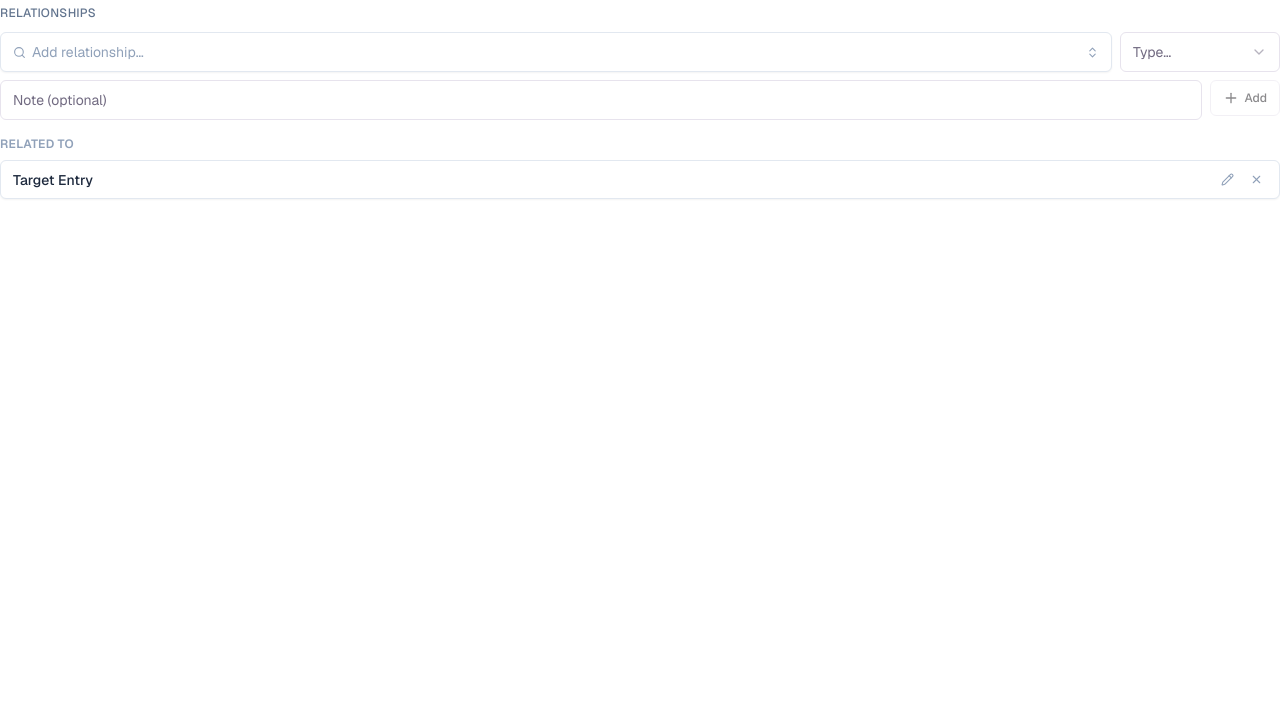
Test: RelationshipsPanel — confirmation dialog on remove › shows confirmation dialog when remove button is clicked
The image size is (1280, 720).
Note: Click the remove button on the card
Click the button with test id "relationship-card-remove-button" at (1256, 180), box top-left (1246, 169), bottom-right (1267, 190)
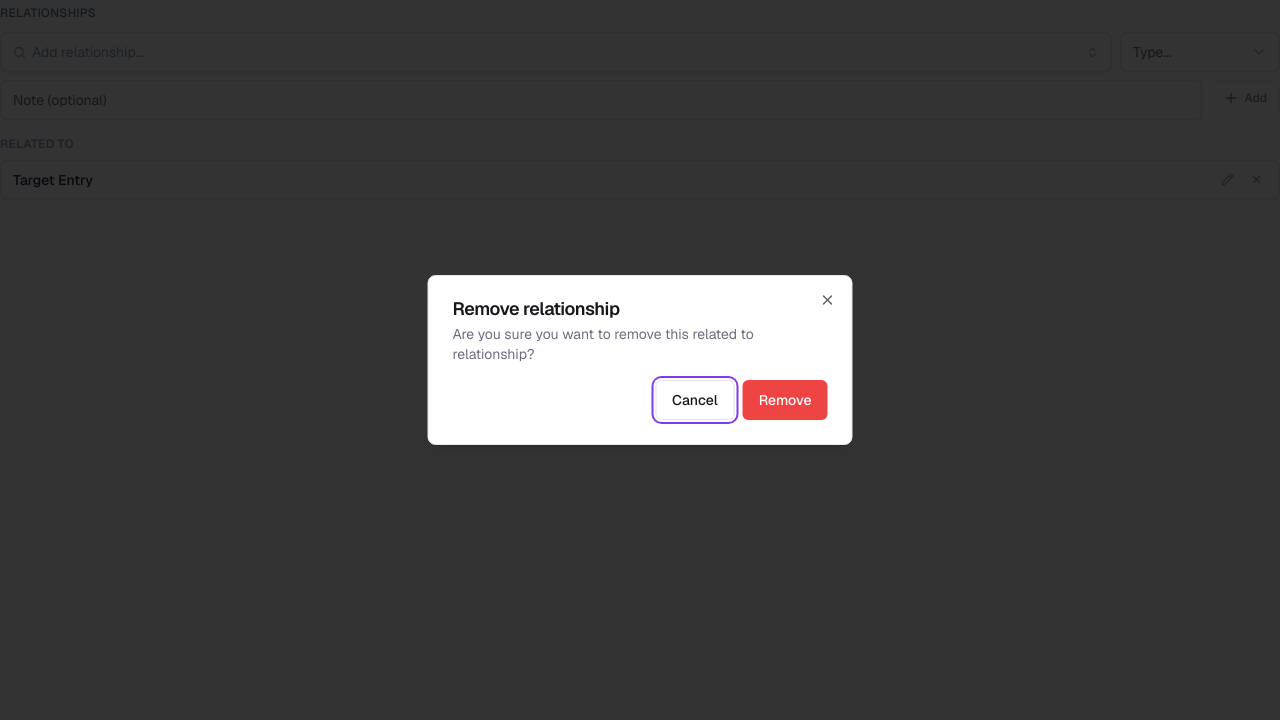
Check: the heading "Remove relationship" is shown, box top-left (452, 297), bottom-right (620, 320)
